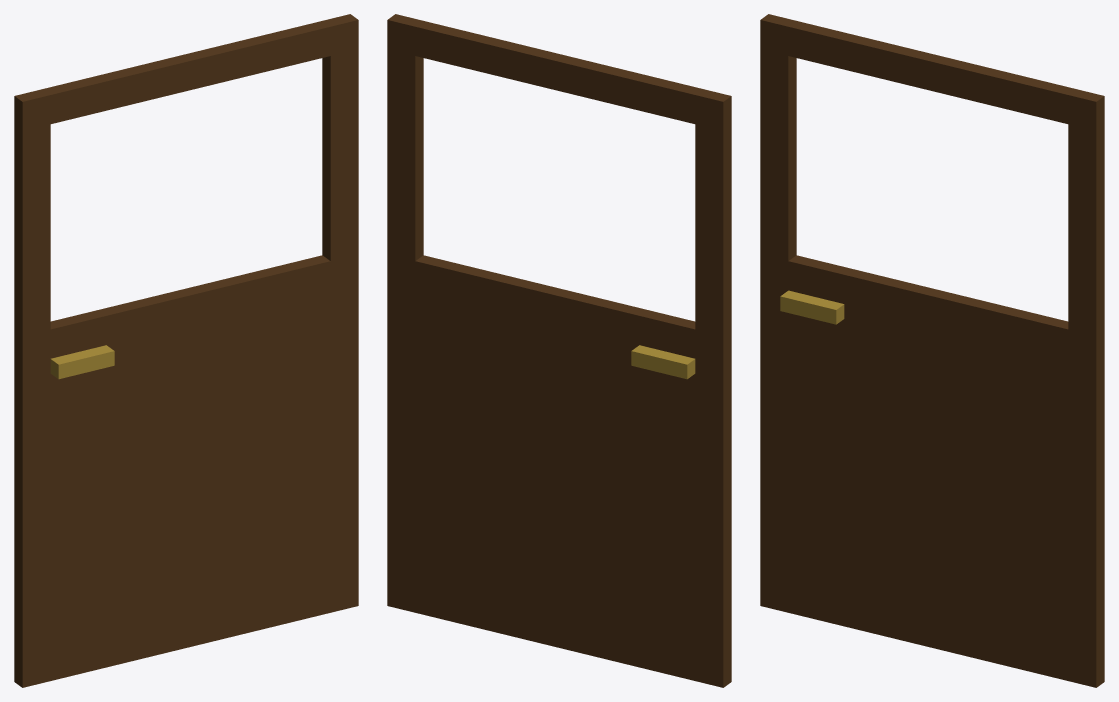
File: Door01.gltf
3 views of the same model, side by side, from view 1: azimuth 30°, elevation 25°; view 2: azimuth 150°, elevation 25°; view 3: azimuth 330°, elevation 25° (orthographic).
Parts seen in each view (by area): view 1: Layer.1, Layer.2; view 2: Layer.1, Layer.3; view 3: Layer.1, Layer.2.
Part boxes in pixels (bbox=[...]): Layer.1: bbox=[14, 14, 358, 687]; Layer.2: bbox=[50, 345, 114, 379]; Layer.1: bbox=[387, 14, 731, 687]; Layer.3: bbox=[631, 345, 695, 379]; Layer.1: bbox=[760, 14, 1104, 687]; Layer.2: bbox=[780, 290, 844, 324].
Size of the model in its own units: 24 by 40 by 3.
